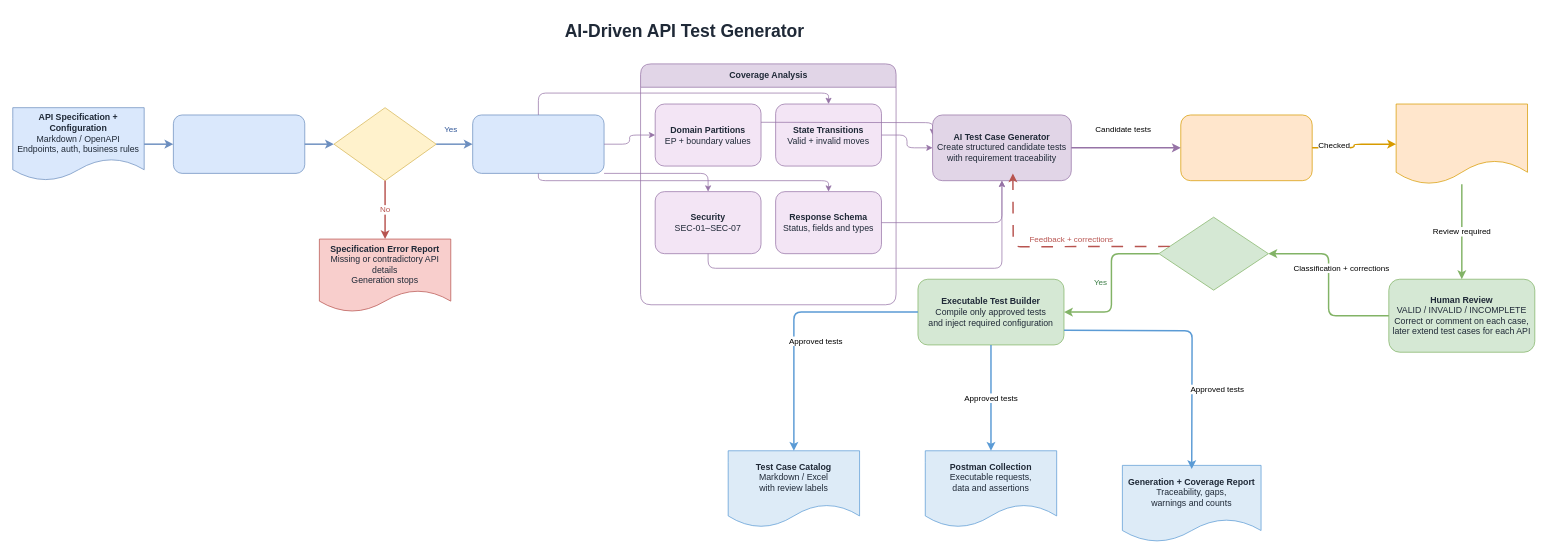
This 1548x555 diagram has some shape labels left out. The centre of each missing label's shape, as x and y in pixels:
Automated Validator Completeness, consistency, coverage and duplicates: the point at 1246,147
Candidate Tests + Validation Findings Warnings remain attached: the point at 1461,143
Human approved?: the point at 1213,253
Normalized API Model Unified endpoint, input, state and response metadata: the point at 538,143
Specification Parser Extract routes, parameters, constraints and schemas: the point at 239,143
Specification valid?: the point at 384,144
